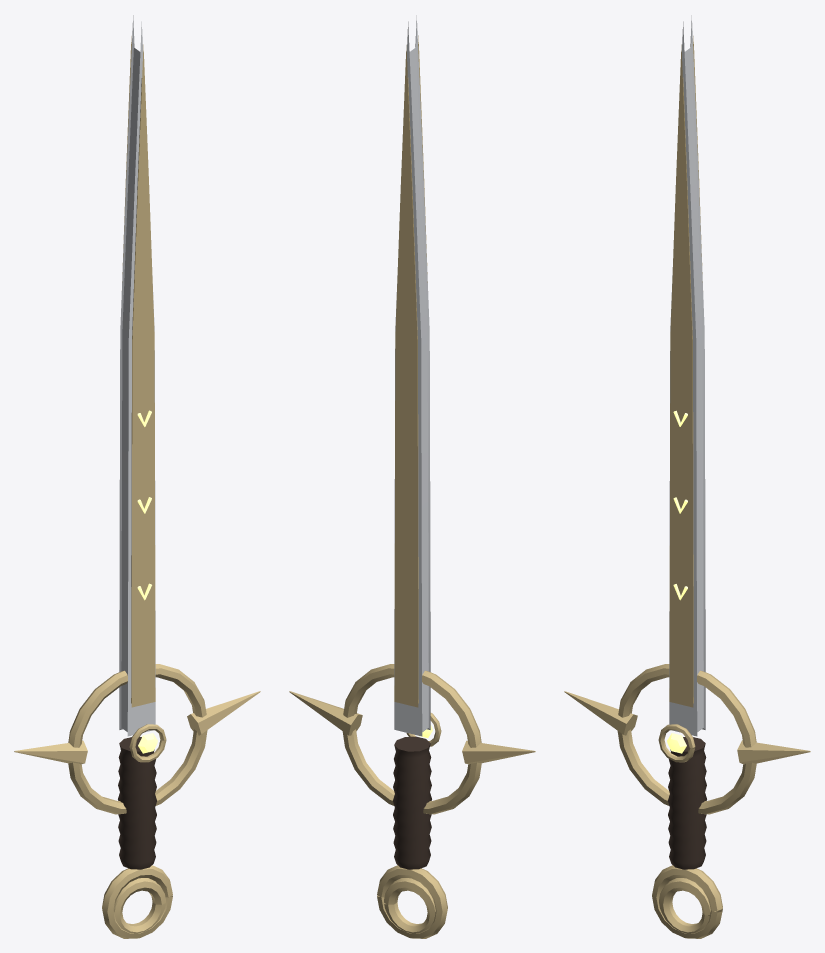
The model's file is artisan_astral_ring_sword.glb.
3 views of the same model, side by side, from view 1: azimuth 30°, elevation 25°; view 2: azimuth 150°, elevation 25°; view 3: azimuth 330°, elevation 25° (orthographic).
Visible parts, largest first — view 1: artisan_astral_ring_sword; view 2: artisan_astral_ring_sword; view 3: artisan_astral_ring_sword.
Boxes of the visible parts, box(x1,y1,x2,y2) form: artisan_astral_ring_sword: box(14, 15, 260, 938); artisan_astral_ring_sword: box(289, 15, 535, 938); artisan_astral_ring_sword: box(564, 15, 810, 938).
Bounding box in the file's own units: 0.3644 × 1.3 × 0.0606.
